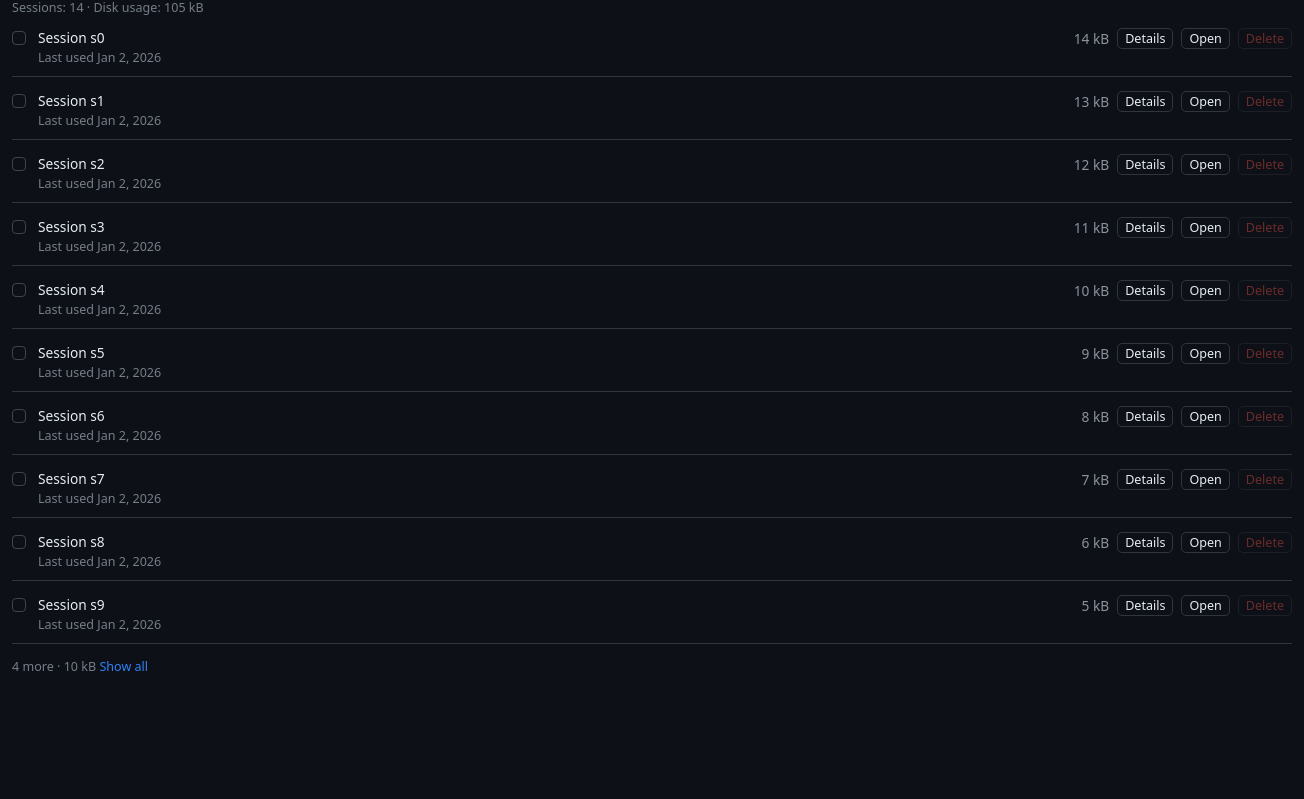
Test: what the sessions are using on disk › when there are more than it lists › shows the rest when asked
Step 1. Click the button "Show all" → click(124, 666), box [99,658,148,675]
(page scrolled)
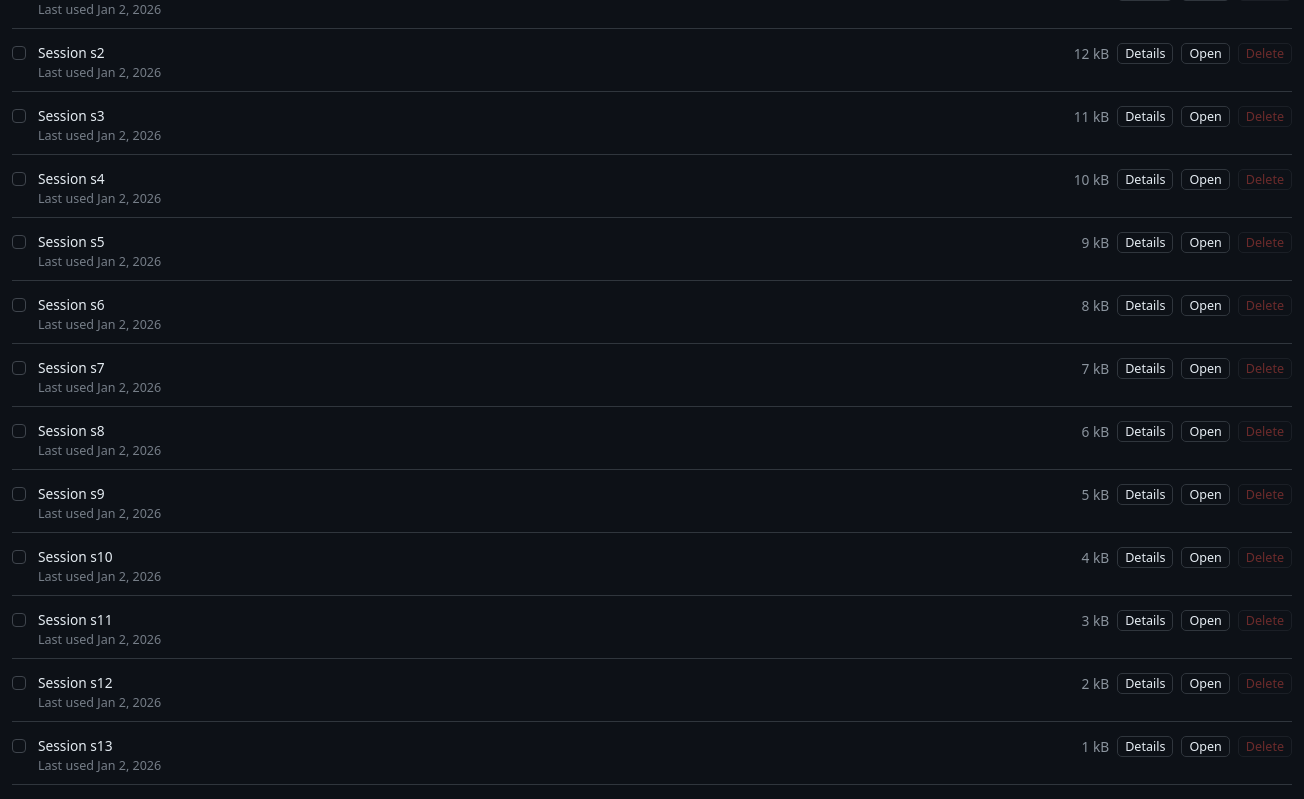
Now the text "Session s13" is shown, box [38,736,113,755]
